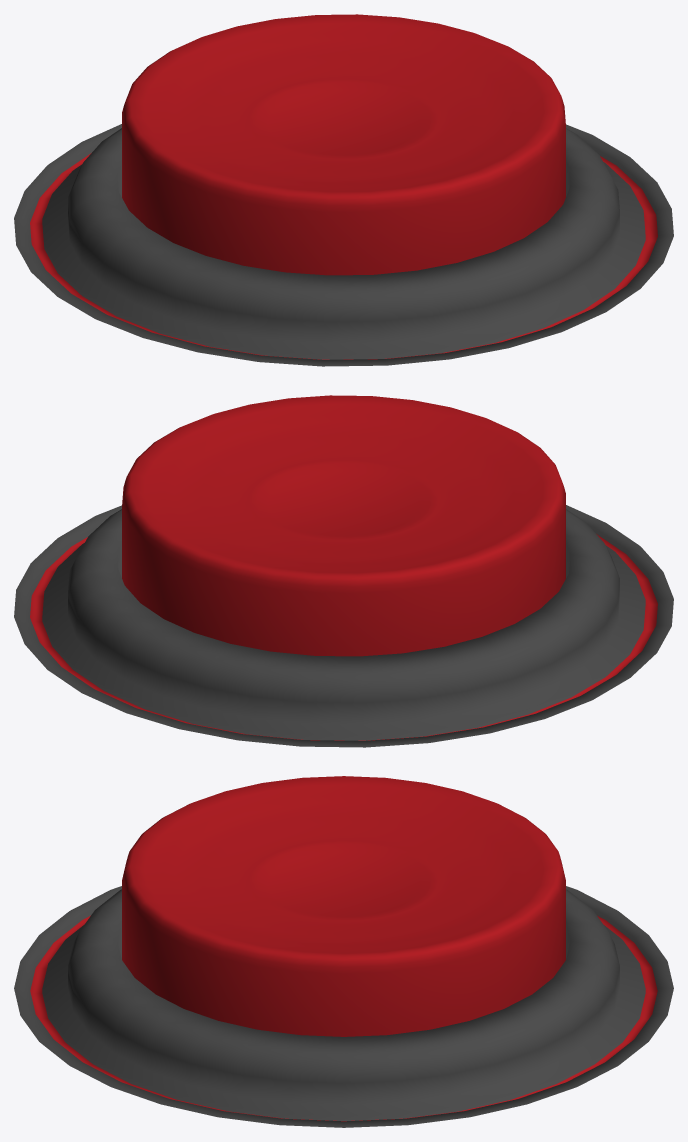
The model's file is Button-emergency.fbx.
3 renders of one model, top to bottom at view 1: azimuth 30°, elevation 25°; view 2: azimuth 150°, elevation 25°; view 3: azimuth 270°, elevation 25°, orthographic.
Visible parts, largest first — view 1: Circle, Circle.001; view 2: Circle, Circle.001; view 3: Circle, Circle.001.
Boxes of the visible parts, bbox=[...] form: Circle: bbox=[122, 14, 565, 275]; Circle.001: bbox=[14, 124, 673, 366]; Circle: bbox=[122, 395, 565, 656]; Circle.001: bbox=[14, 505, 673, 747]; Circle: bbox=[122, 776, 565, 1036]; Circle.001: bbox=[14, 886, 673, 1127].
Size of the model in its own units: 657 by 140 by 657.
